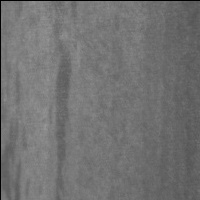inclusion: (48, 21, 74, 200), (1, 109, 28, 200), (8, 52, 25, 120)
